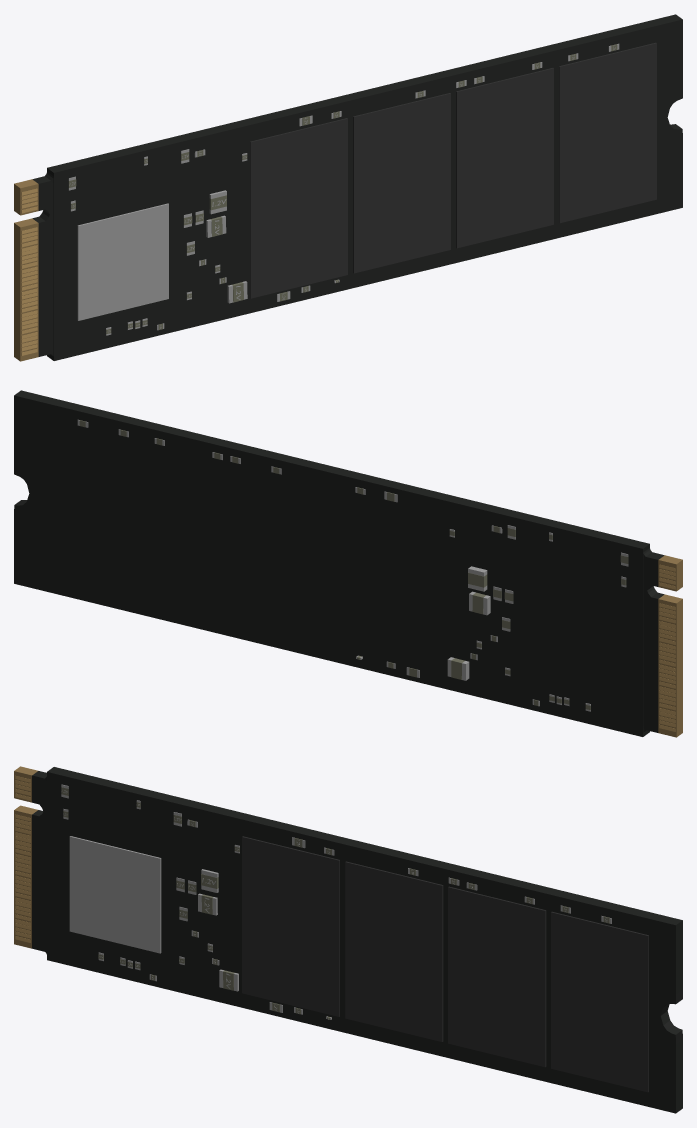
File: SSD NVMe.glb
3 views of the same model, one above another, from view 1: azimuth 30°, elevation 25°; view 2: azimuth 150°, elevation 25°; view 3: azimuth 330°, elevation 25° (orthographic).
Visible parts, largest first — view 1: SoC; view 2: SoC; view 3: SoC.
Boxes of the visible parts, x1,y1,x2,y2 form: SoC: [14, 14, 682, 361]; SoC: [14, 390, 682, 737]; SoC: [14, 766, 682, 1113].
Size of the model in its own units: 0.08 by 0.0217 by 0.00252.
